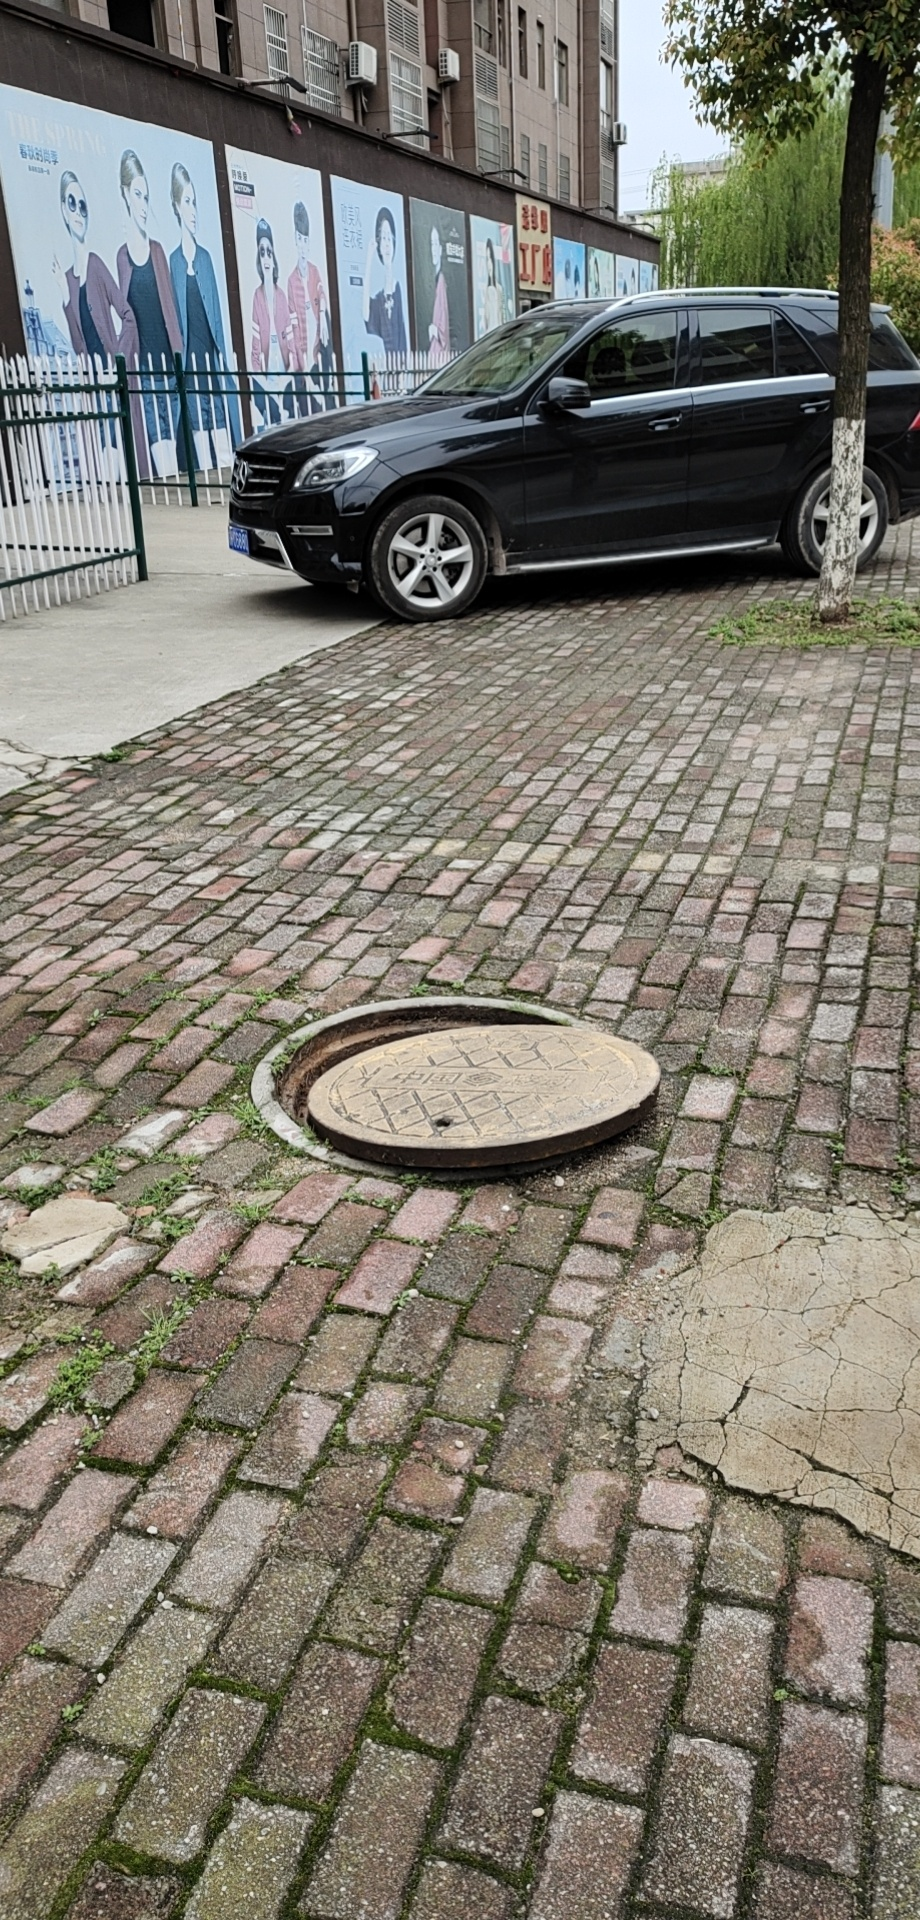uncovered: (254, 994, 663, 1180)
